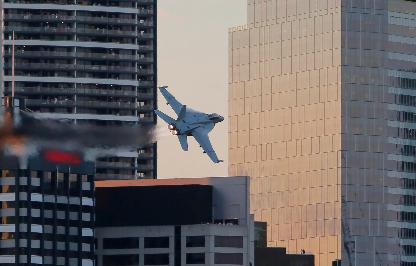F15: (154, 84, 224, 162)
